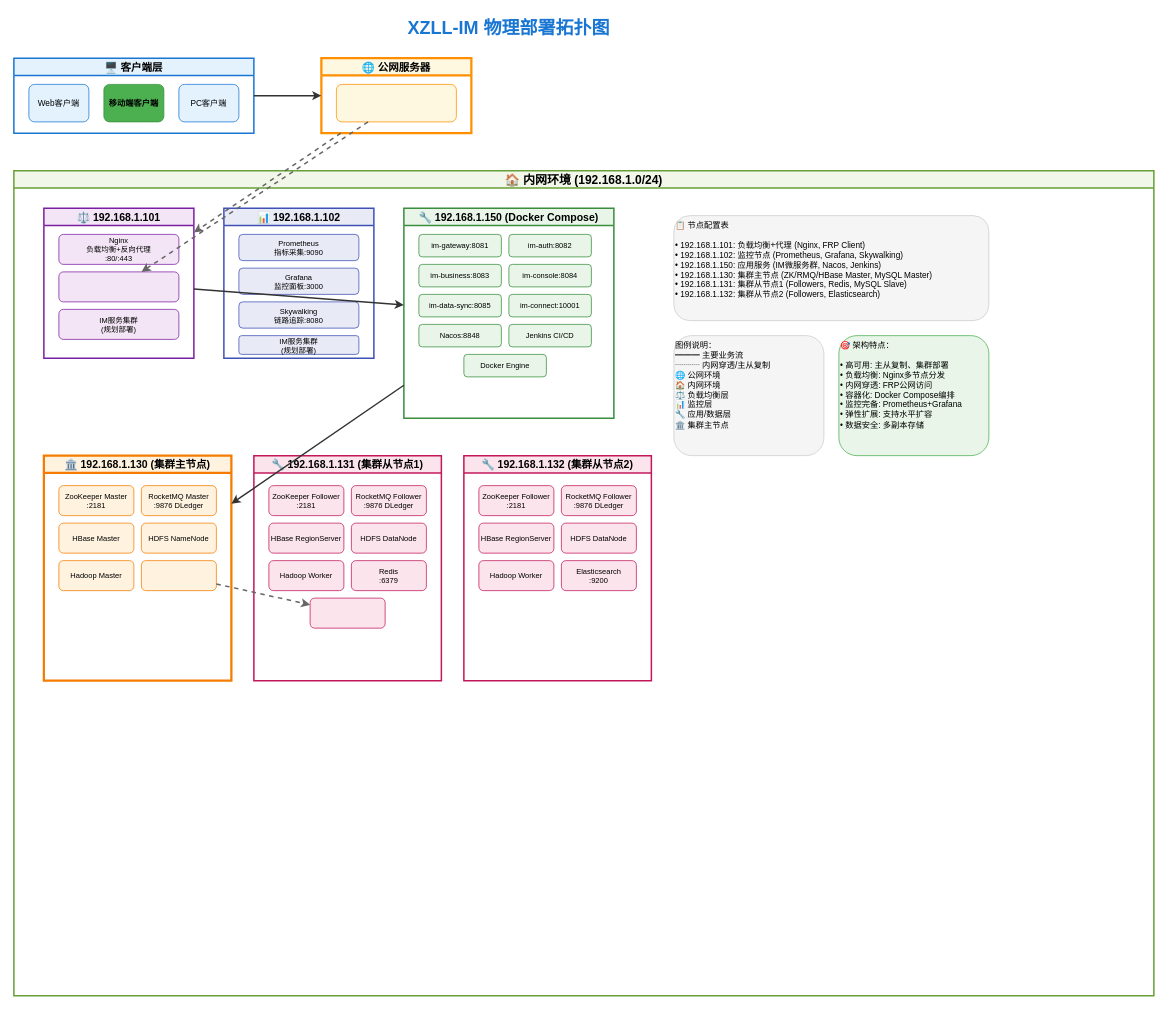
This 1167x1009 diagram has some shape labels left out. The centre of each missing label's shape, as x and y in pixels:
"FRP Client 内网穿透客户端" belongs at (x=118, y=286).
"FRP Server 公网IP 内网穿透服务端" belongs at (x=396, y=103).
"MySQL Master :3306" belongs at (x=178, y=575).
"MySQL Slave :3306" belongs at (x=347, y=612).
